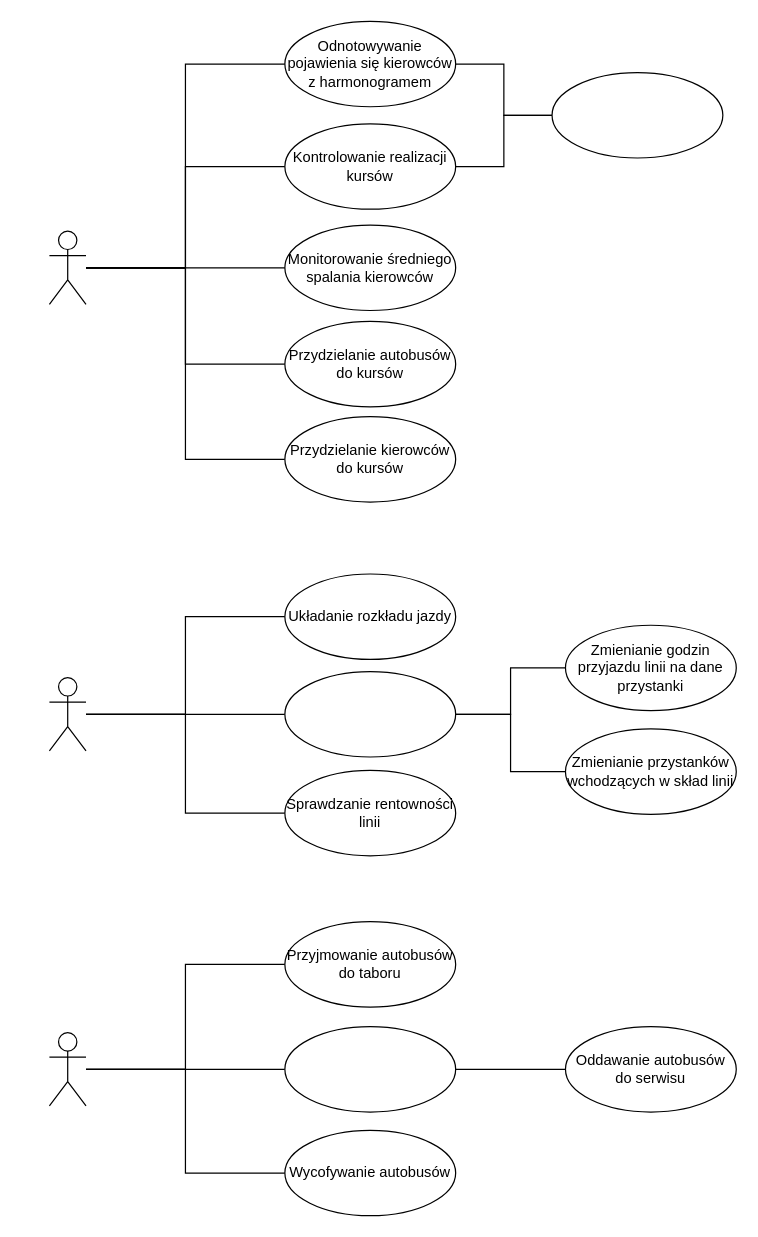
Image size: 758x1237. Some labels were removed from this diagram. Here are the shapes that lost their labels. From the top down, the centre of each, then its label:
the point at 637,114: Oznaczanie spóźnień
the point at 67,267: Dyspozytor
the point at 67,713: Planista
the point at 370,713: Tworzenie poprawek rozkładu
the point at 67,1069: Zarządca flotą
the point at 370,1068: Zmienianie stanu autobusów
